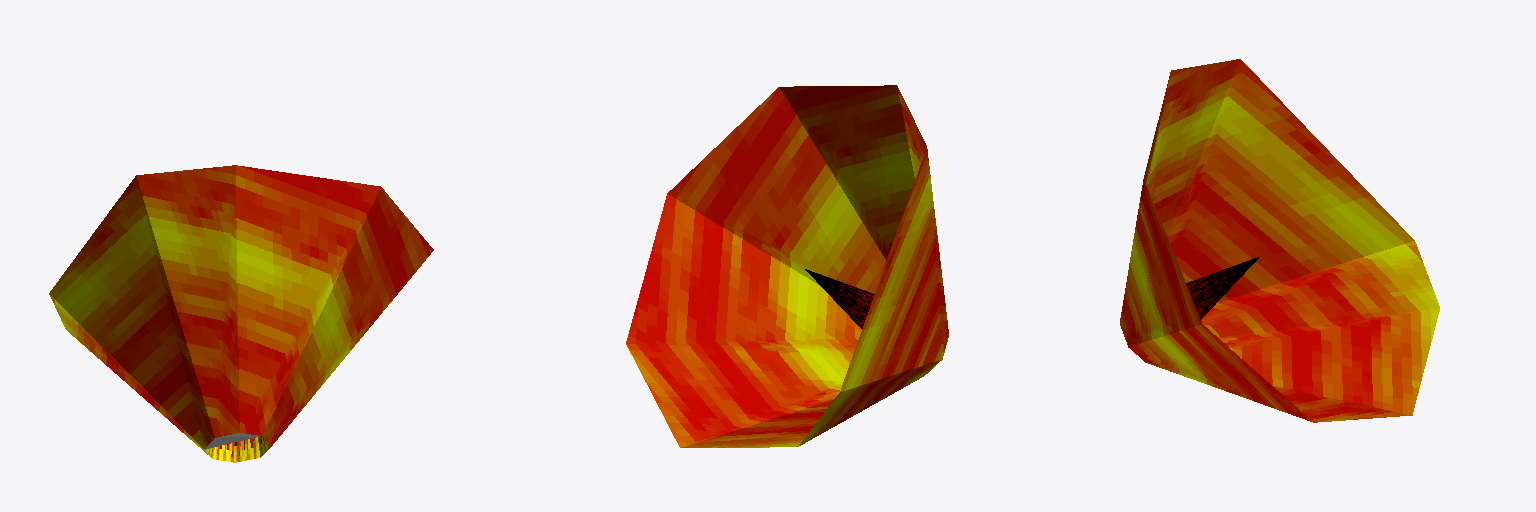
3 renders of one model, left to right at view 1: azimuth 30°, elevation 25°; view 2: azimuth 150°, elevation 25°; view 3: azimuth 270°, elevation 25°, orthographic.
Parts seen in each view (by area): view 1: turbo4; view 2: turbo4; view 3: turbo4.
Part boxes in pixels (bbox=[...]): turbo4: bbox=[49, 165, 433, 462]; turbo4: bbox=[626, 85, 948, 447]; turbo4: bbox=[1120, 59, 1439, 422].
Bounding box in the file's own units: 1.25 × 1.27 × 1.24.
9 materials, 9 textured.